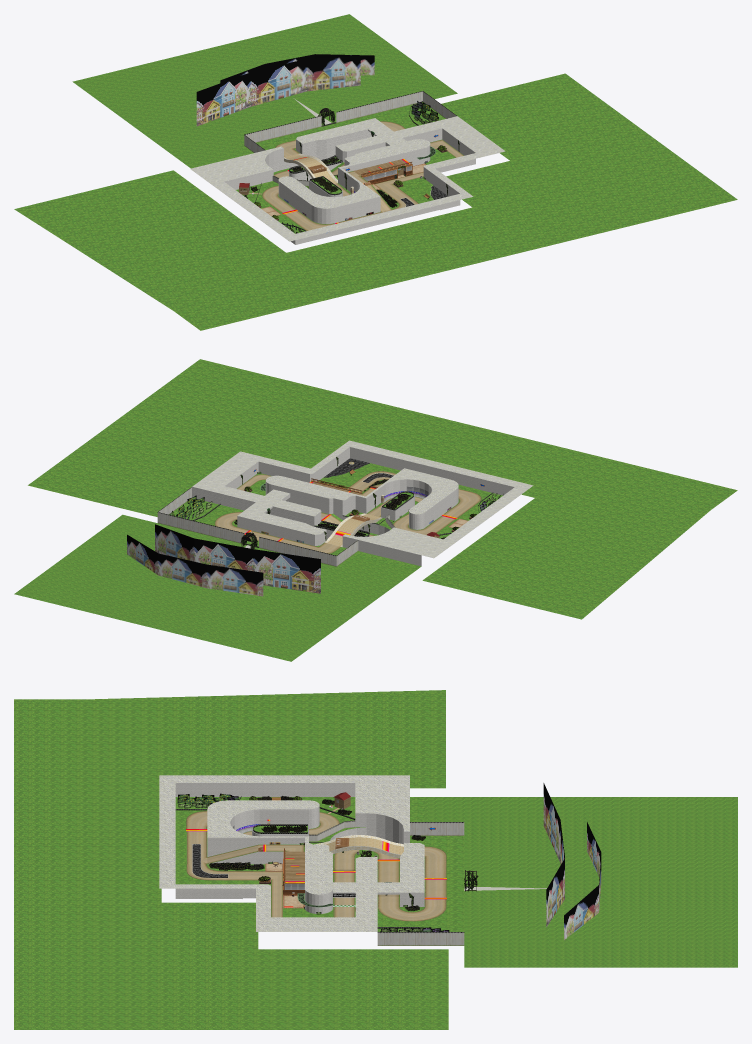
The picture shows the model from 3 angles, top to bottom: view 1: azimuth 30°, elevation 25°; view 2: azimuth 150°, elevation 25°; view 3: azimuth 270°, elevation 25°; orthographic projection. The views are drawn at different scales.
Visible parts, largest first — view 1: polygon3.011, polygon2.009, polygon17.007, polygon40, polygon6.015, polygon39.001, polygon8.012; view 2: polygon3.011, polygon2.009, polygon17.007, polygon40, polygon6.015, polygon39.001, polygon8.012, polygon42; view 3: polygon3.011, polygon2.009, polygon17.007, polygon6.015, polygon40, polygon39.001, polygon36, polygon8.012, polygon42, polygon12.009.
Boxes of the visible parts, bbox=[...] form: polygon3.011: bbox=[14, 14, 737, 330]; polygon2.009: bbox=[190, 98, 505, 241]; polygon17.007: bbox=[224, 128, 475, 244]; polygon40: bbox=[196, 54, 374, 126]; polygon6.015: bbox=[261, 121, 463, 230]; polygon39.001: bbox=[244, 91, 456, 186]; polygon8.012: bbox=[284, 153, 353, 194]; polygon3.011: bbox=[14, 359, 737, 661]; polygon2.009: bbox=[192, 440, 533, 558]; polygon17.007: bbox=[192, 447, 514, 566]; polygon40: bbox=[127, 524, 320, 596]; polygon6.015: bbox=[214, 471, 481, 553]; polygon39.001: bbox=[157, 487, 395, 566]; polygon8.012: bbox=[324, 495, 384, 546]; polygon42: bbox=[169, 472, 503, 525]; polygon3.011: bbox=[14, 690, 737, 1029]; polygon2.009: bbox=[159, 775, 546, 931]; polygon17.007: bbox=[175, 783, 424, 913]; polygon6.015: bbox=[186, 811, 446, 921]; polygon40: bbox=[543, 783, 601, 940]; polygon39.001: bbox=[309, 820, 464, 945]; polygon36: bbox=[209, 796, 425, 910]; polygon8.012: bbox=[267, 821, 403, 858]; polygon42: bbox=[177, 793, 449, 931]; polygon12.009: bbox=[285, 797, 350, 881].
Bounding box in the file's own units: 149949 × 11607 × 134993.
52 materials, 52 textured.
